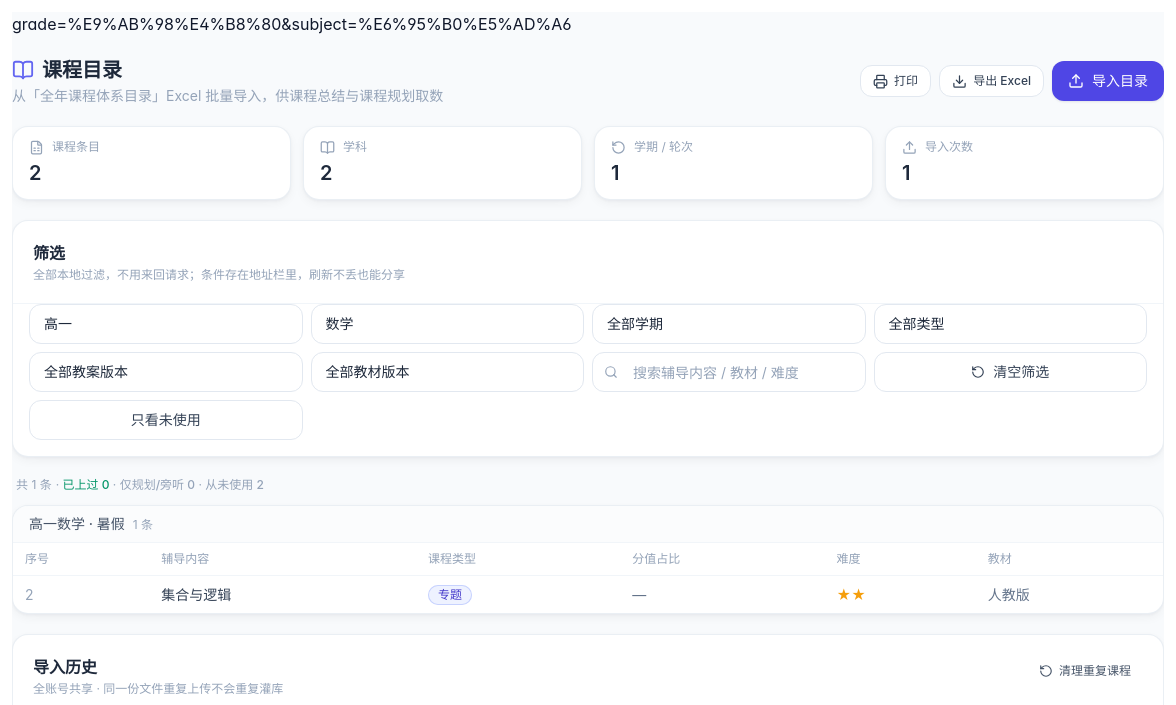
Test: 课程目录页 › 筛选条件写进地址栏，刷新不丢
Expected: the text "集合与逻辑" is shown, [161,586,231,602]
Expected: the text "古代诗歌鉴赏" is not shown
In the field with placeholder "搜索辅导内容 / 教材 / 难度": (729, 372) [592,352,866,392], type "集合"
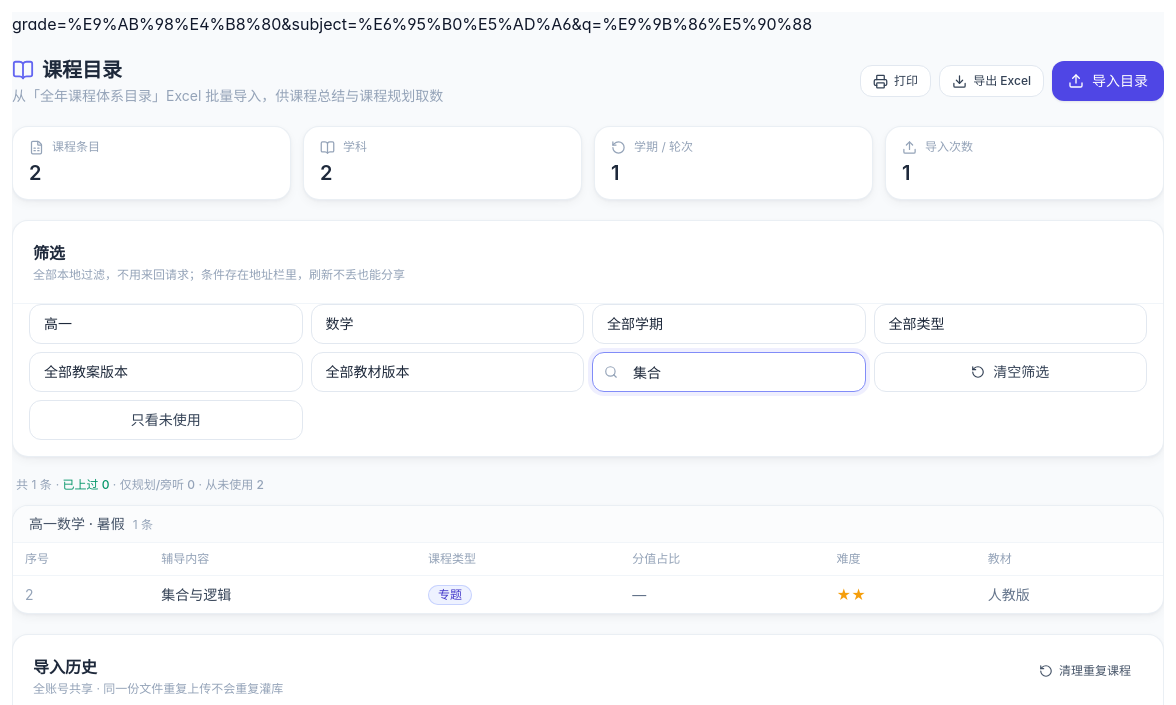
Expected: the text "集合与逻辑" is shown, [161,586,231,602]
Click the button "清空筛选": (1010, 372) [874,352,1147,392]
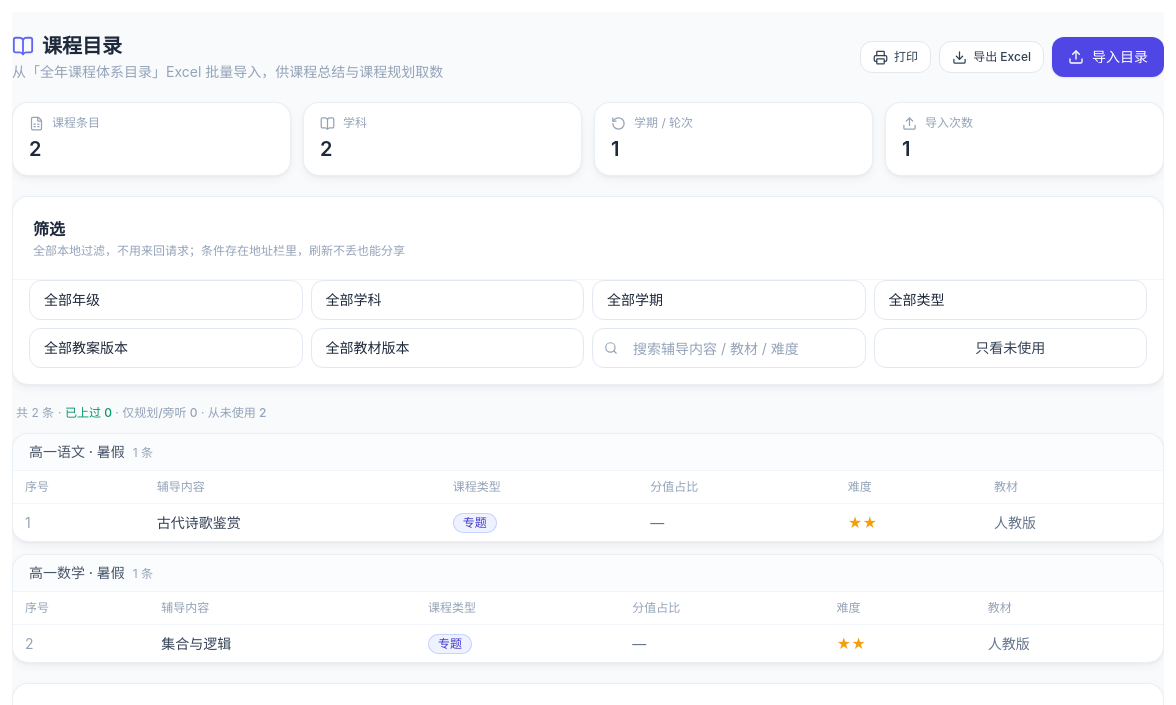
Expected: the text "古代诗歌鉴赏" is shown, [157,514,241,530]
